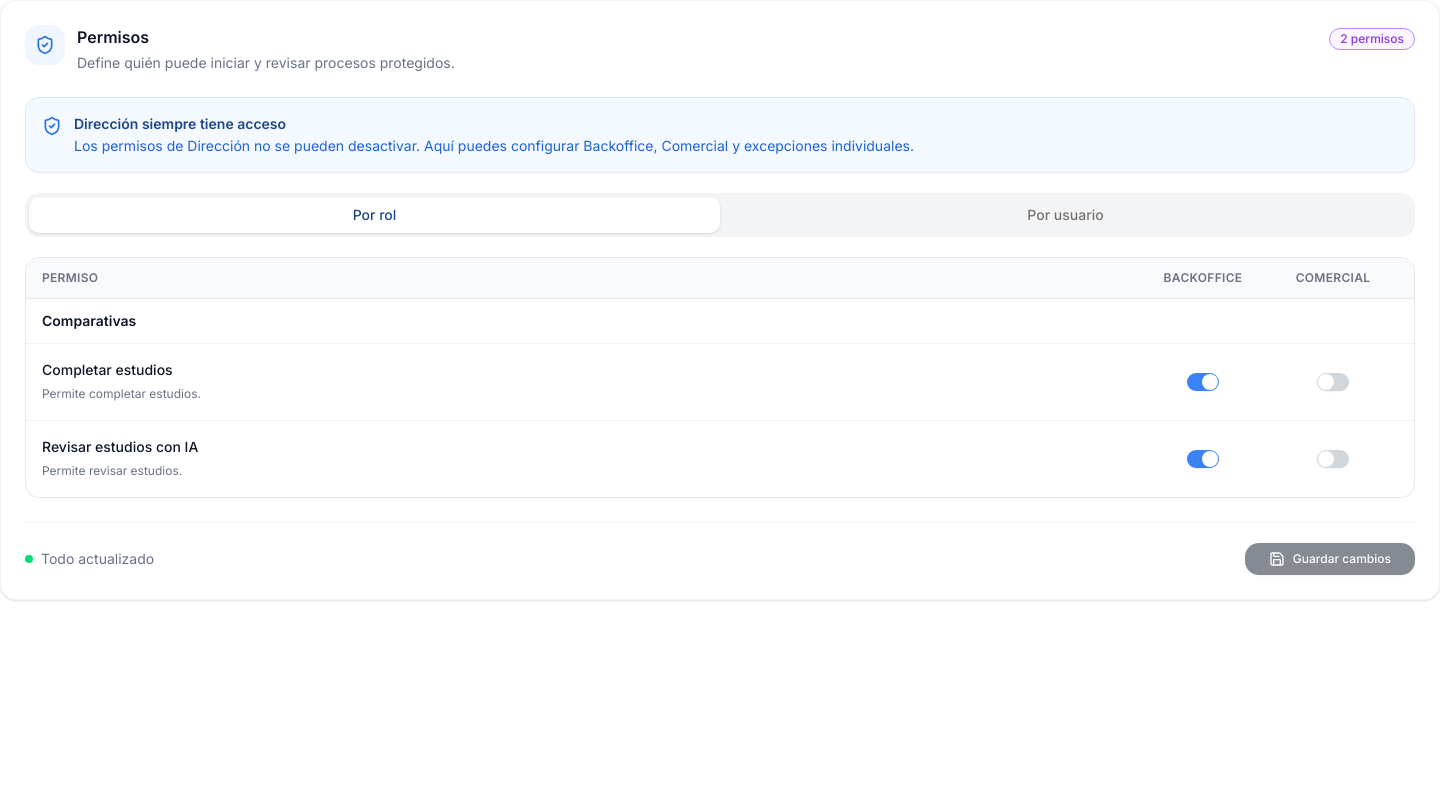
PermissionsSection › shows inherited permissions and creates an override contrary to the role
The image size is (1440, 810).
Step 1. Click the tab "Por usuario" → click(1066, 215), box [720,197,1411,233]
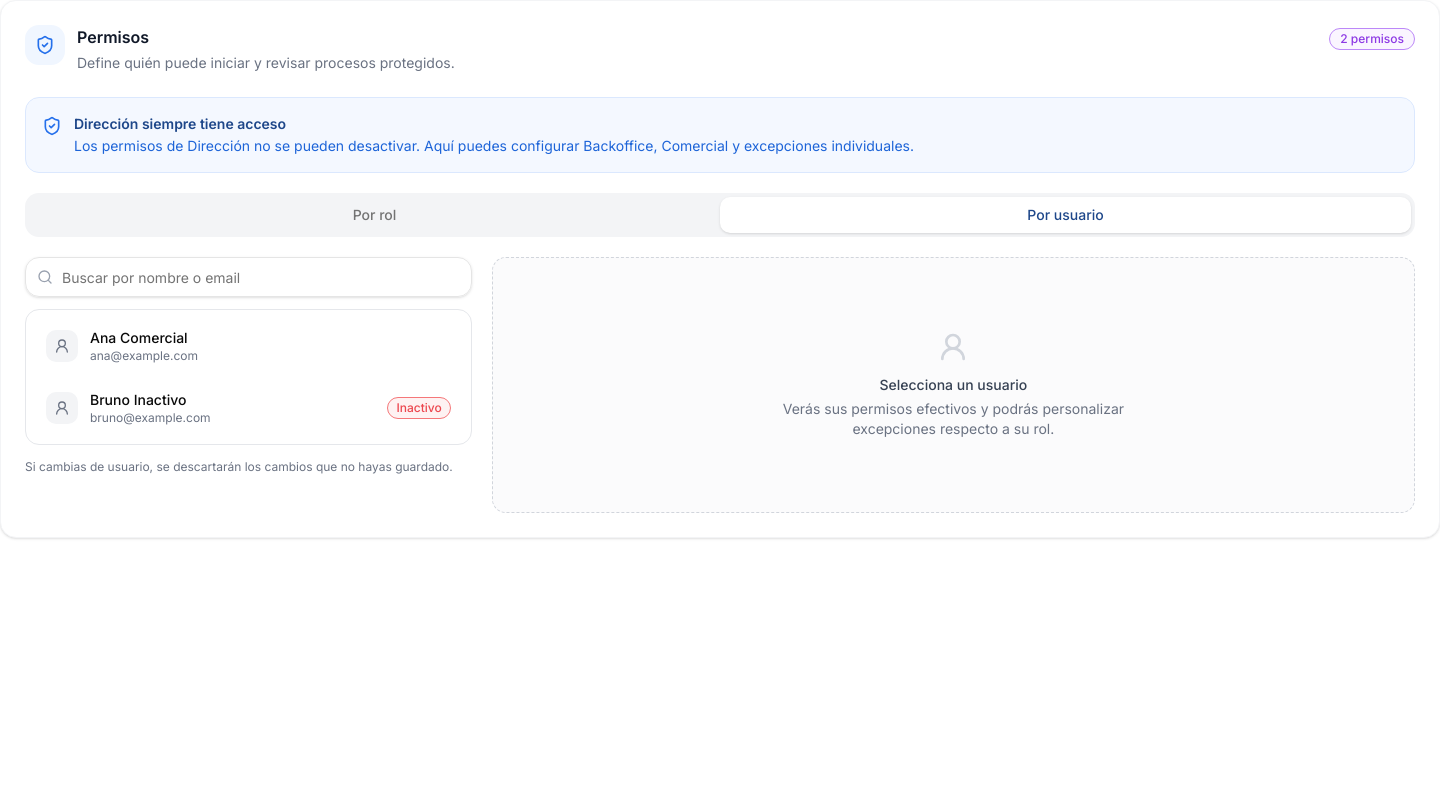
Step 2. Type "Ana" into the search field named "Buscar usuario" → (248, 277), box [25,257,472,297]
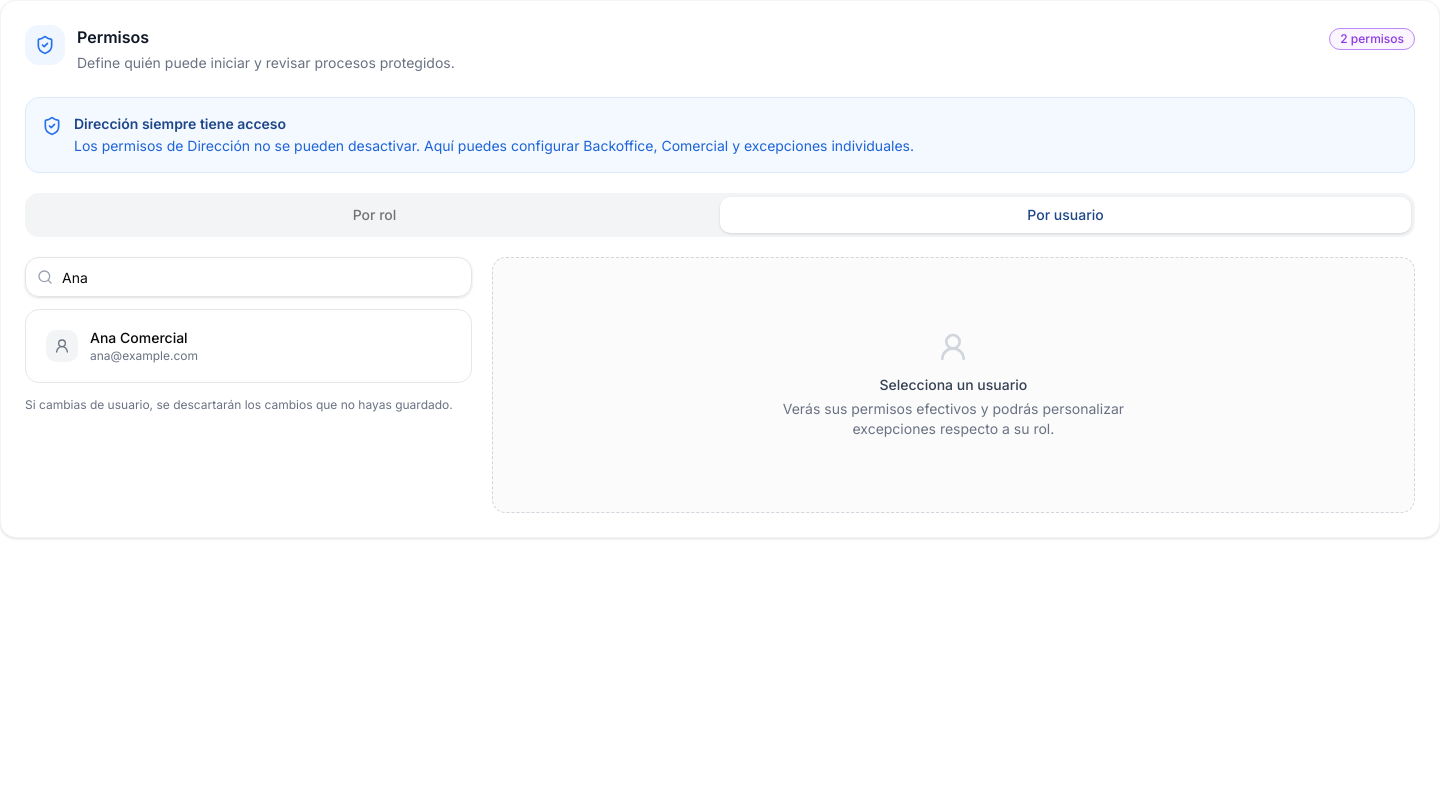
Step 3. Click the button "Ana Comercial ana@example.com" → click(62, 346), box [34,318,463,374]
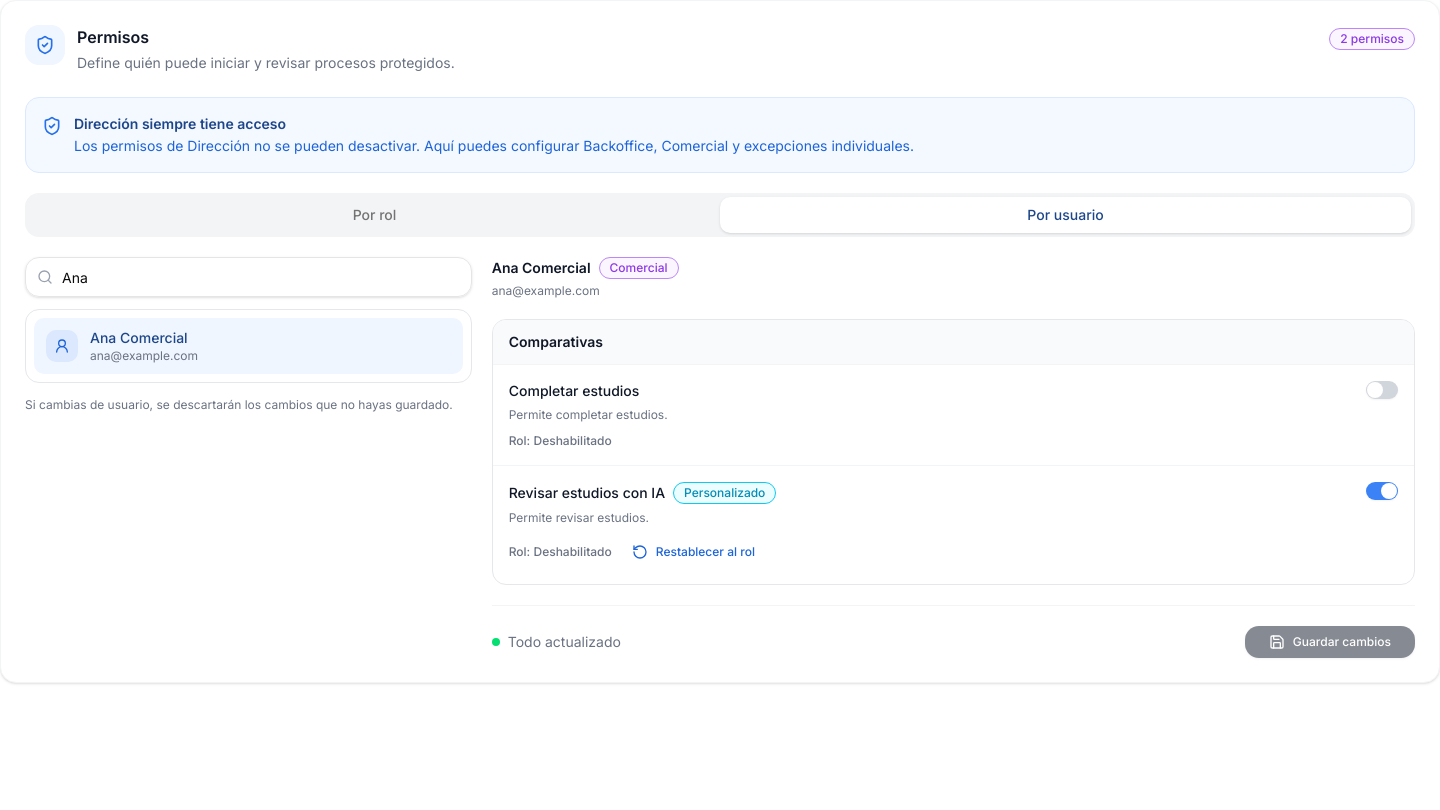
Now the text "Completar estudios" is shown, box [509,382,639,399]
Now the text "Rol: Deshabilitado" below "Permite completar estudios." is shown, box [509,433,612,449]
Step 4. Click the switch named "Completar estudios para Ana Comercial" → click(1382, 390), box [1366,381,1398,399]
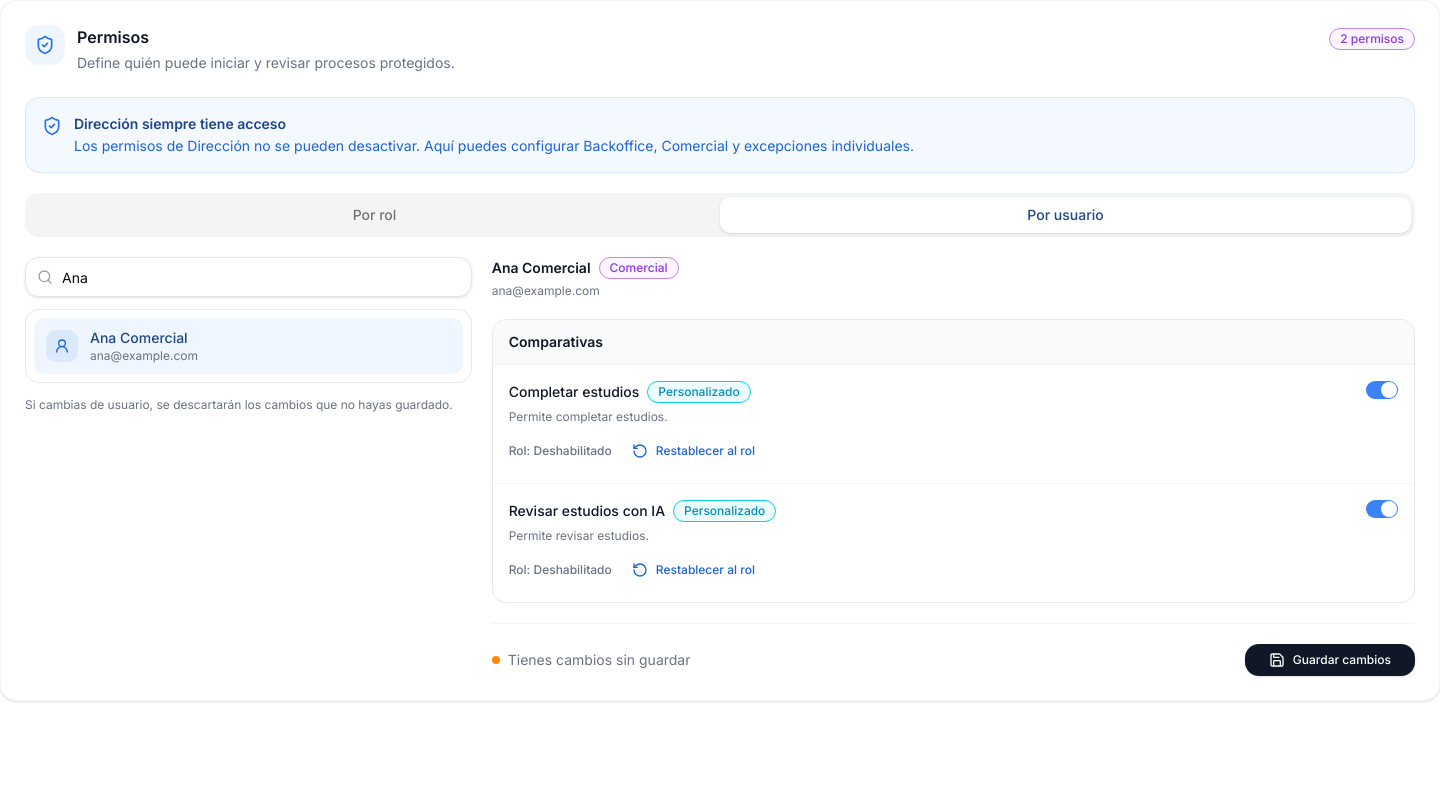
Step 5. Click the button with aria-label "Guardar cambios de usuario" → click(1330, 660), box [1245,644,1415,676]
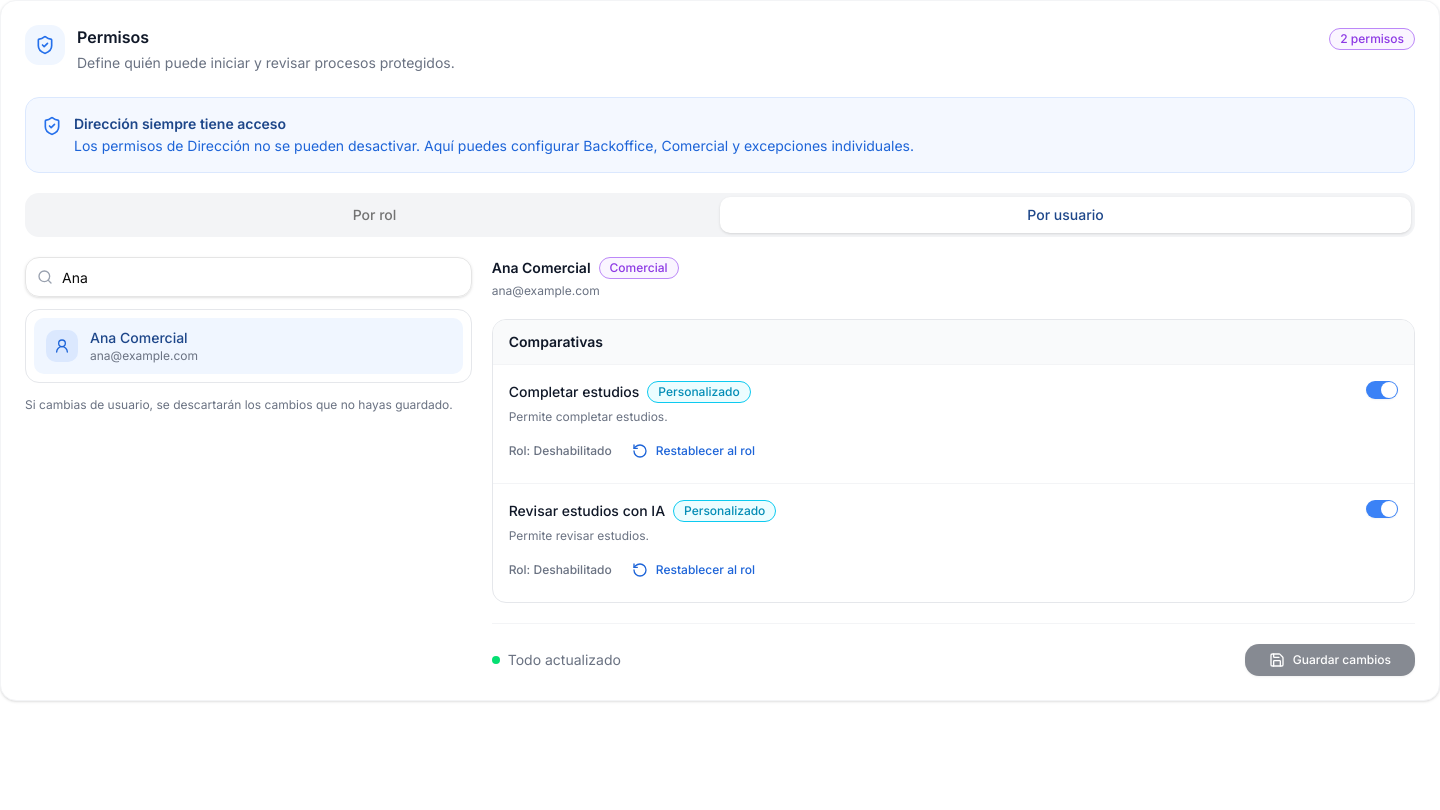
Now the button with aria-label "Guardar cambios de usuario" is disabled, box [1245,644,1415,676]
